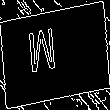M_S: (40, 27, 70, 83)
